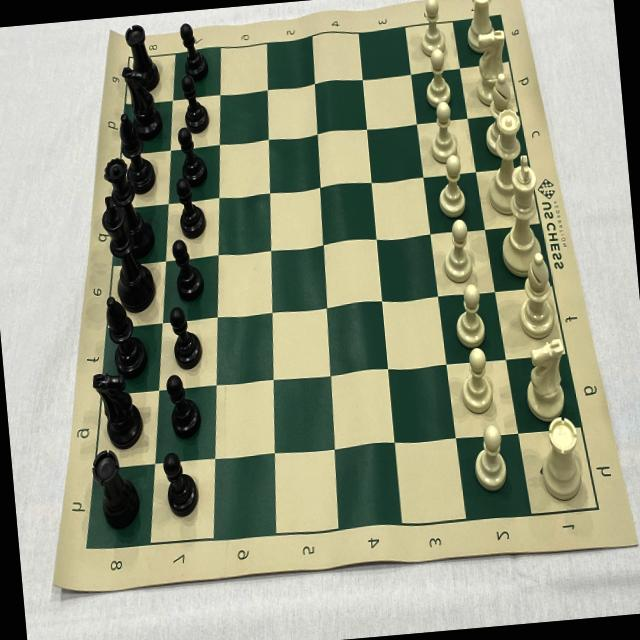black-bishop: (103, 291, 149, 378), (115, 112, 156, 194)
black-king: (98, 191, 156, 314)
black-knight: (90, 366, 144, 448), (120, 64, 163, 140)
black-pawn: (161, 451, 201, 518), (164, 372, 202, 440), (168, 302, 203, 372), (170, 238, 207, 302), (174, 176, 206, 241), (176, 123, 208, 187), (178, 20, 210, 82), (180, 70, 210, 134)
black-queen: (102, 156, 154, 257)
black-rook: (88, 448, 141, 532), (123, 24, 160, 90)
white-bishop: (514, 250, 558, 340), (480, 72, 520, 158)
white-king: (493, 153, 548, 277)
white-knight: (521, 336, 572, 422), (470, 26, 511, 104)
white-pawn: (456, 346, 502, 416), (469, 424, 512, 494), (438, 218, 476, 286), (432, 154, 471, 220), (452, 284, 491, 349), (424, 102, 458, 164), (419, 48, 454, 108), (415, 0, 449, 60)
white-queen: (482, 105, 532, 216)
white-rook: (536, 410, 588, 502), (462, 0, 498, 53)
